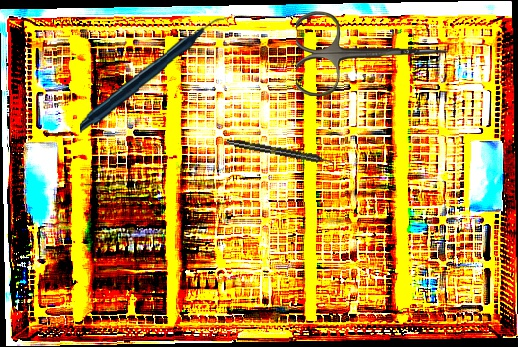Handpiece: (76, 17, 230, 133), (225, 137, 336, 167)
Iris Scissors: (296, 11, 448, 96)
